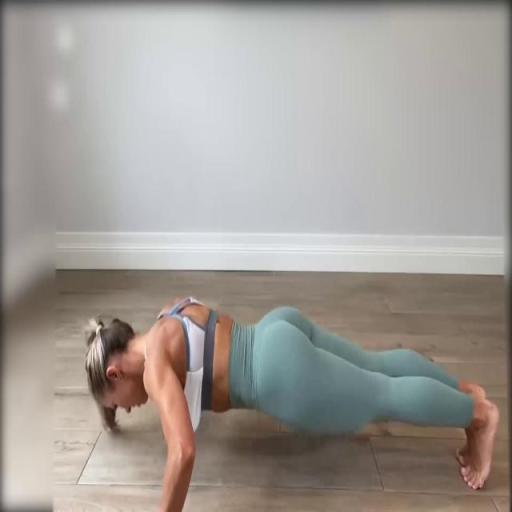Normal_BrenchPress: (82, 298, 501, 510)
